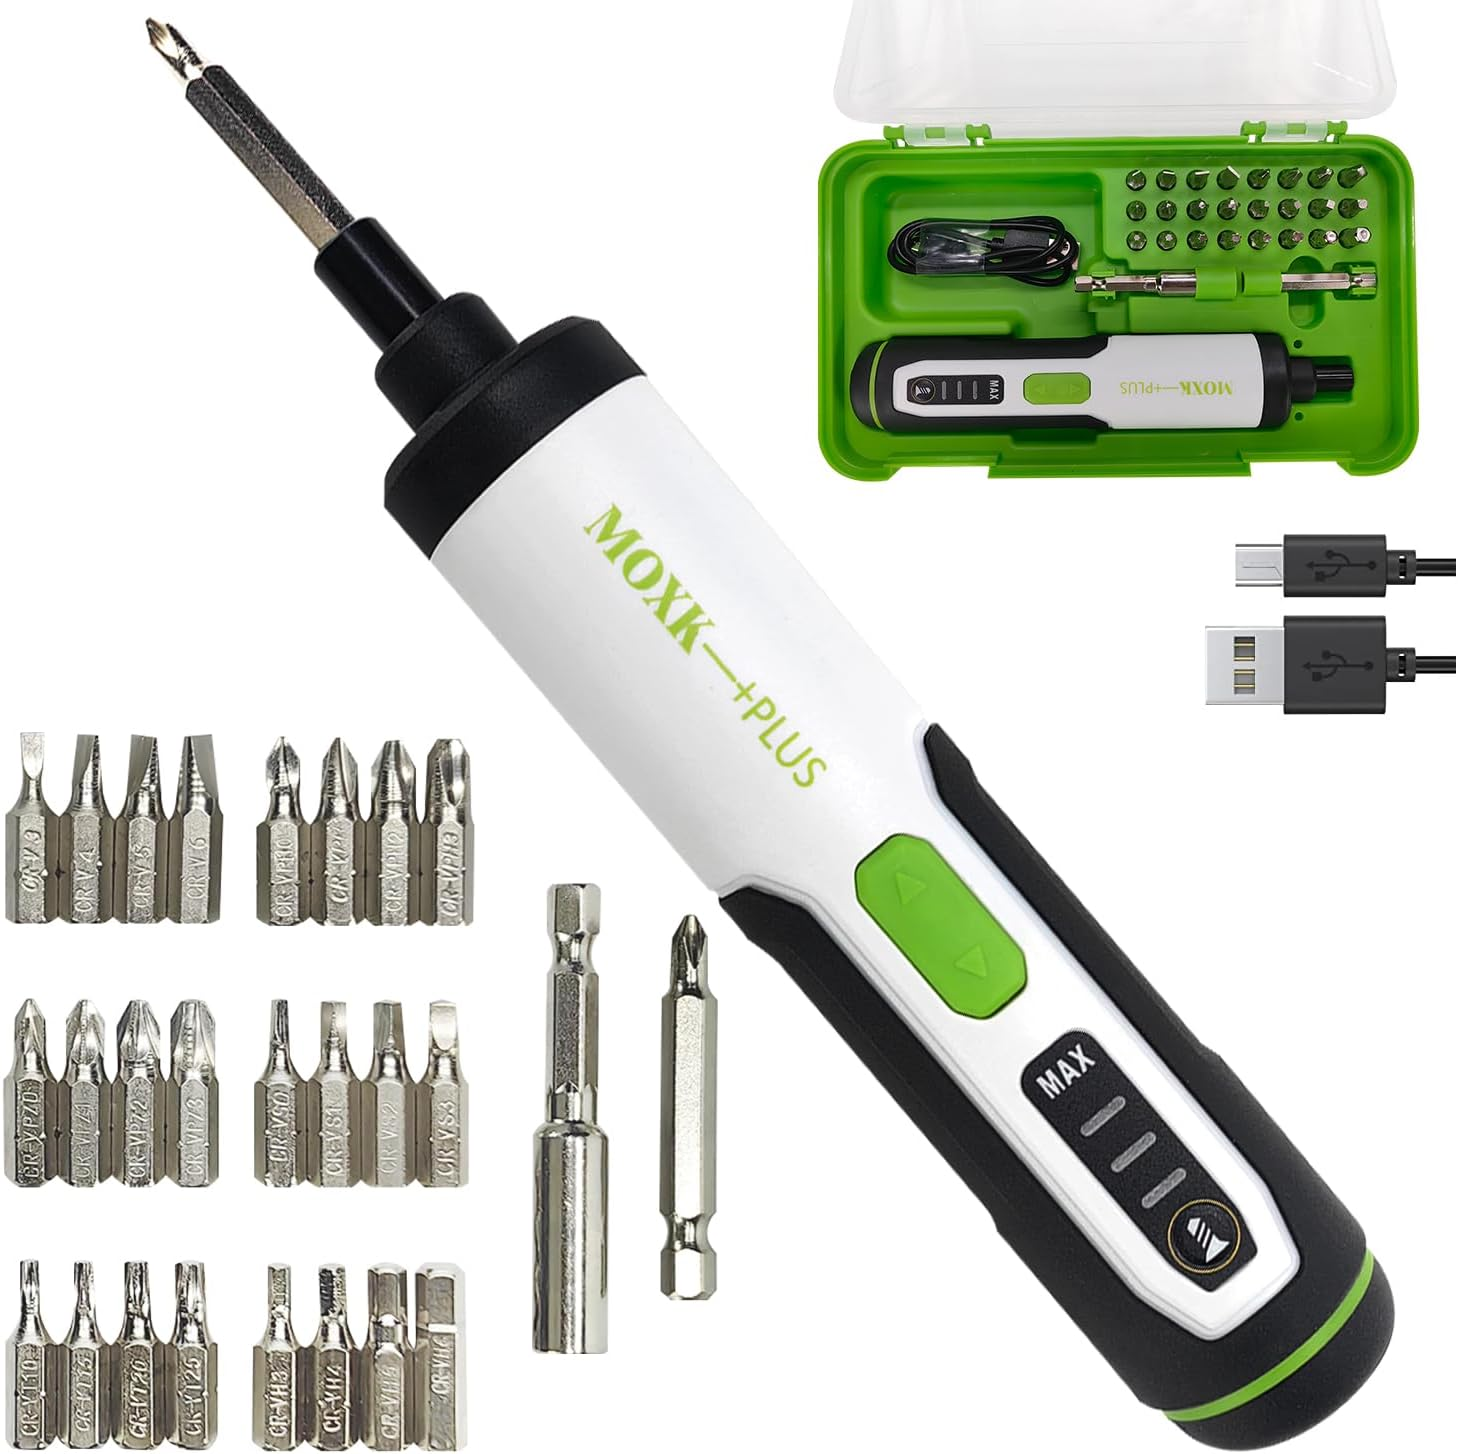screwdriver: (129, 15, 1403, 1453)
